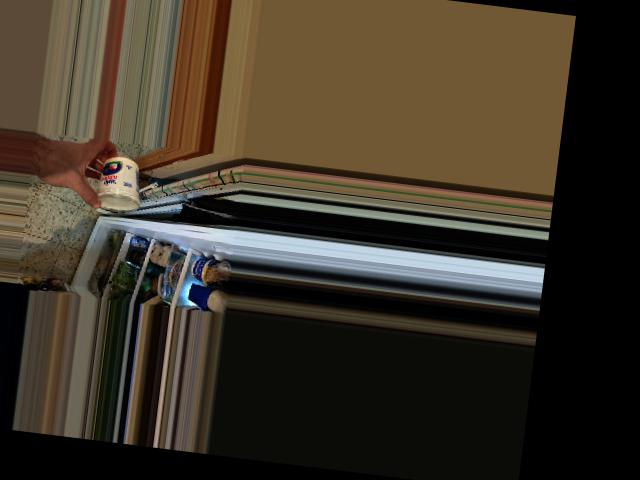cotage: (96, 150, 147, 210)
